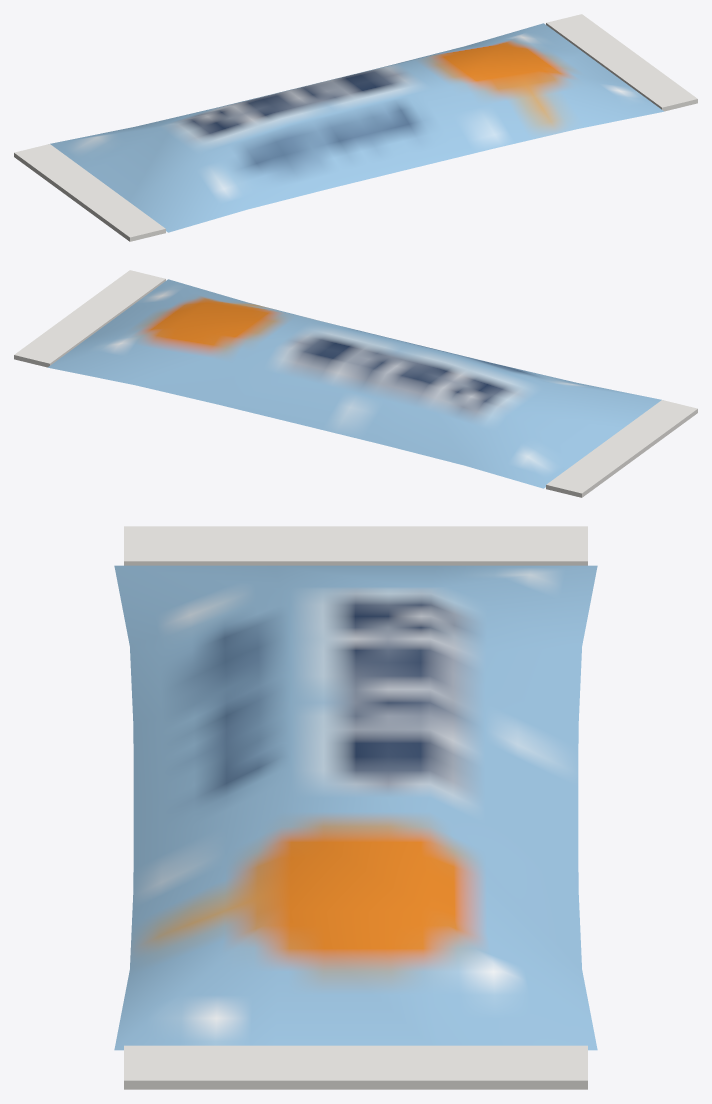
The model's file is SC_Prod_IceBar.gltf.
The picture shows the model from 3 angles, top to bottom: view 1: azimuth 30°, elevation 25°; view 2: azimuth 150°, elevation 25°; view 3: azimuth 270°, elevation 25°; orthographic projection. The views are drawn at different scales.
Parts seen in each view (by area): view 1: SC_Prod_IceBar; view 2: SC_Prod_IceBar; view 3: SC_Prod_IceBar.
Part boxes in pixels (x1=…): SC_Prod_IceBar: x1=14, y1=14, x2=697, y2=241; SC_Prod_IceBar: x1=14, y1=270, x2=697, y2=497; SC_Prod_IceBar: x1=114, y1=526, x2=597, y2=1089.
Size of the model in its own units: 0.19 by 0.0229 by 0.07.
2 materials, 2 textured.
